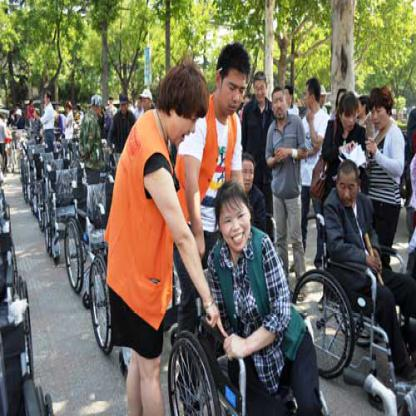wheelchair: (172, 183, 329, 415), (302, 162, 415, 411)
